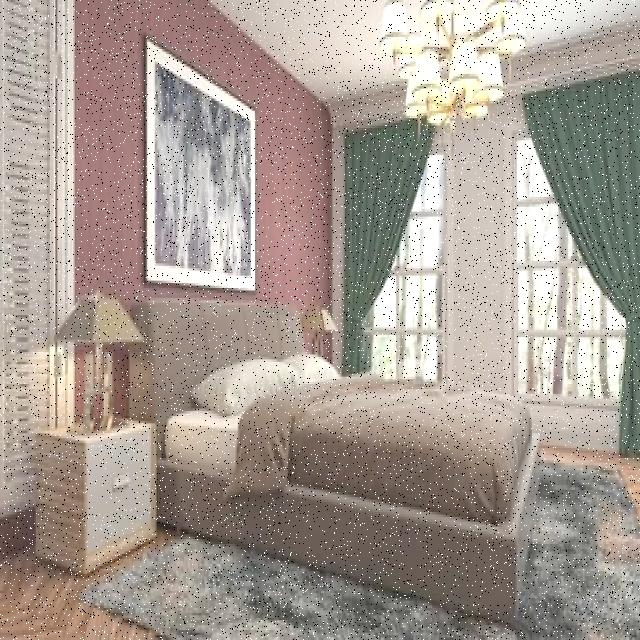bed: (142, 292, 542, 608)
